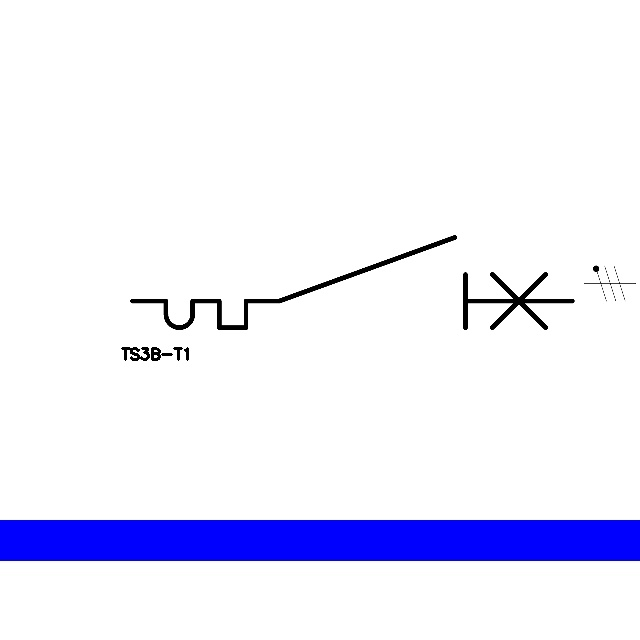interruptor_termomagnetico: (121, 226, 584, 339)
